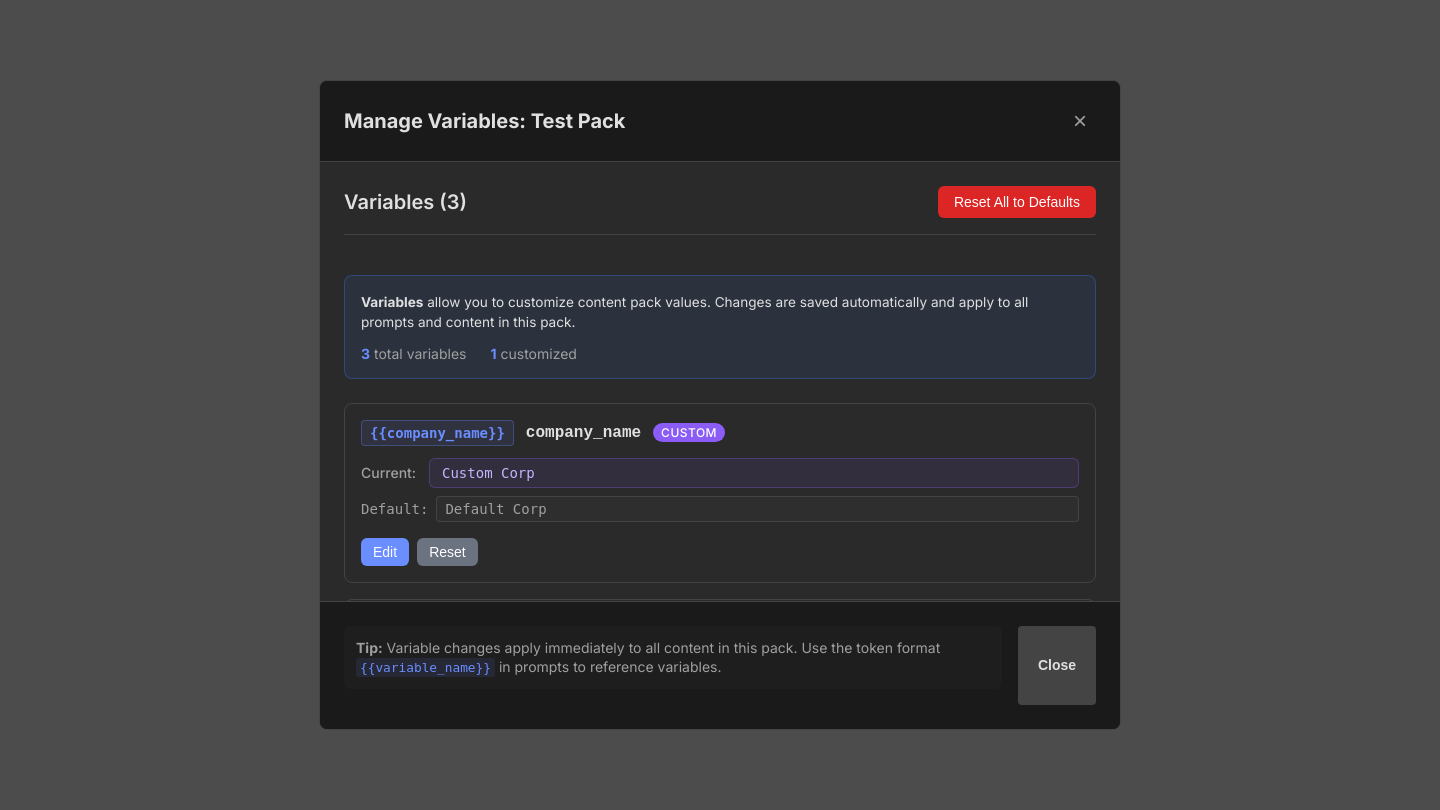
Test: VariableManager › Variable Editing › should enter edit mode when edit button is clicked
Expected: the text "{{company_name}}" is shown, [361,420,514,446]
Then perform actions
Click the button "Edit".
click(385, 552)  # box [361,538,409,566]
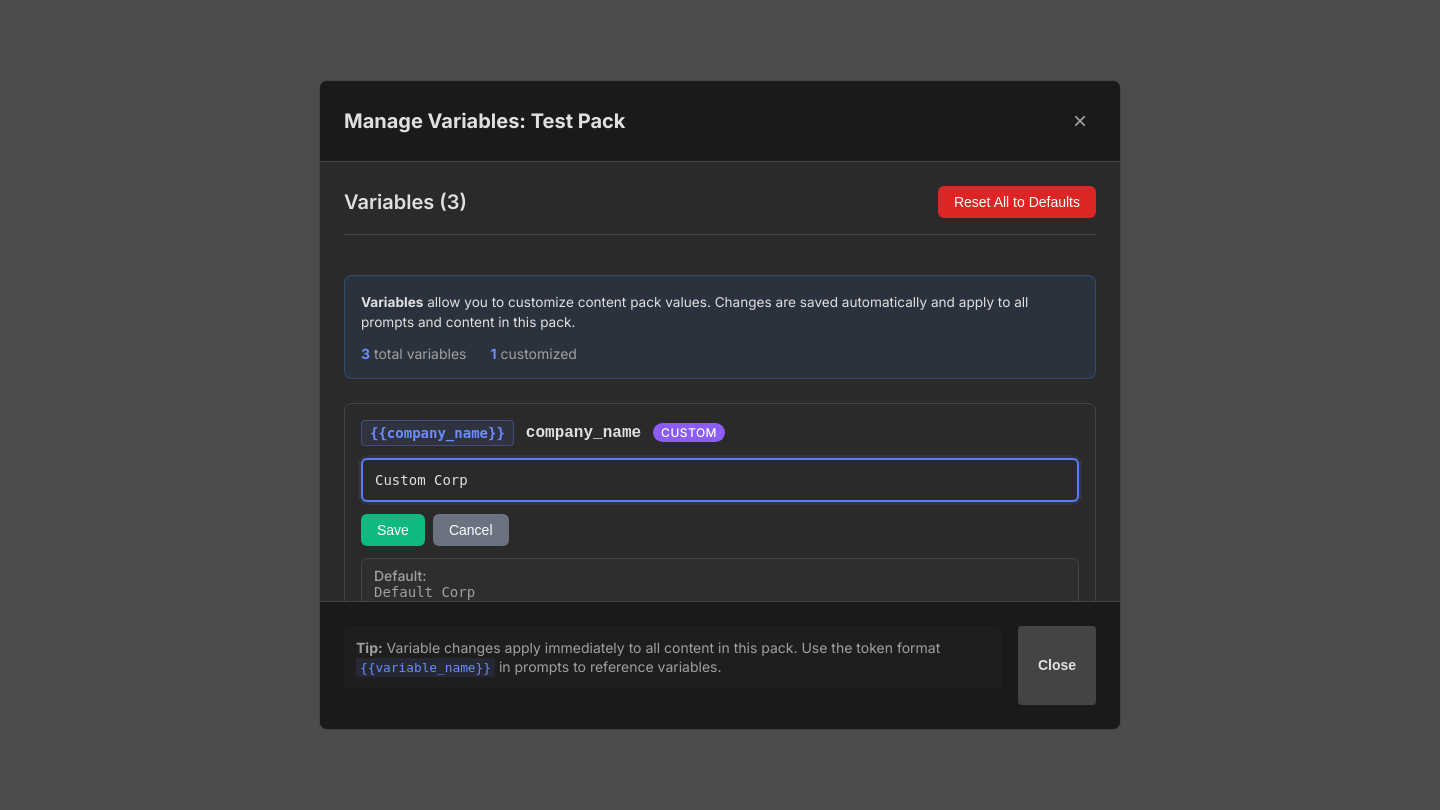
Now the field showing "Custom Corp" is shown, box [361,458,1079,502]
Now the button "Save" is shown, box [361,514,425,546]
Now the button "Cancel" is shown, box [433,514,508,546]
